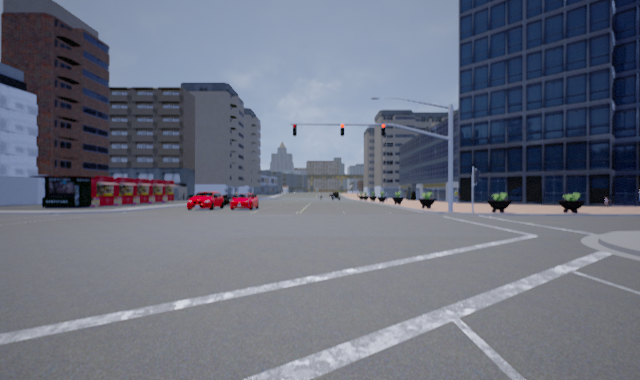vehicle: (183, 190, 226, 210), (226, 192, 259, 210)
